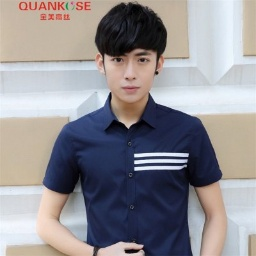face: (94, 1, 169, 104)
